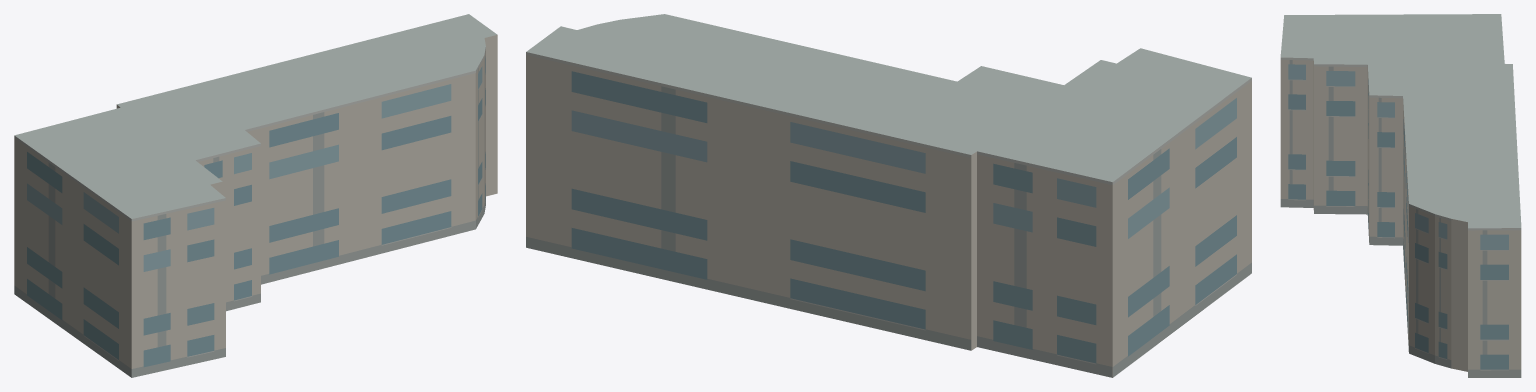
Rendered from survey-upis-32761422.glb.
The picture shows the model from 3 angles, left to right: view 1: azimuth 30°, elevation 25°; view 2: azimuth 150°, elevation 25°; view 3: azimuth 270°, elevation 25°; orthographic projection. The views are drawn at different scales.
Visible parts, largest first — view 1: survey-upis-32761422.tmp; view 2: survey-upis-32761422.tmp; view 3: survey-upis-32761422.tmp.
Boxes of the visible parts, box(x1,y1,x2,y2) form: survey-upis-32761422.tmp: box(14, 14, 497, 377); survey-upis-32761422.tmp: box(526, 14, 1251, 377); survey-upis-32761422.tmp: box(1280, 14, 1521, 377).
Bounding box in the file's own units: 48.95 × 15.95 × 23.27.
